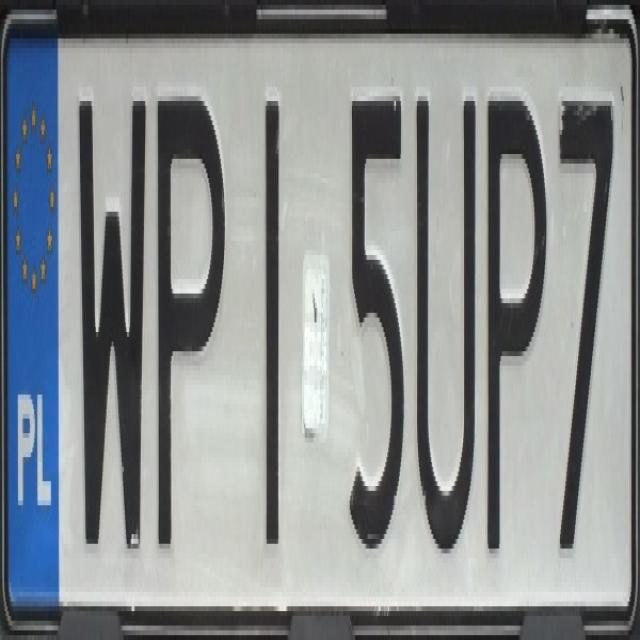pl_license_plate: (6, 34, 630, 606)
